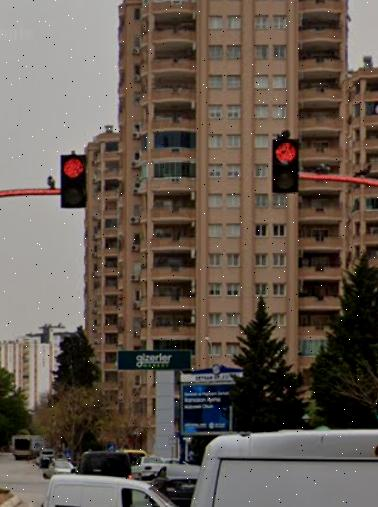redlight: (270, 133, 299, 195), (58, 151, 88, 208)
